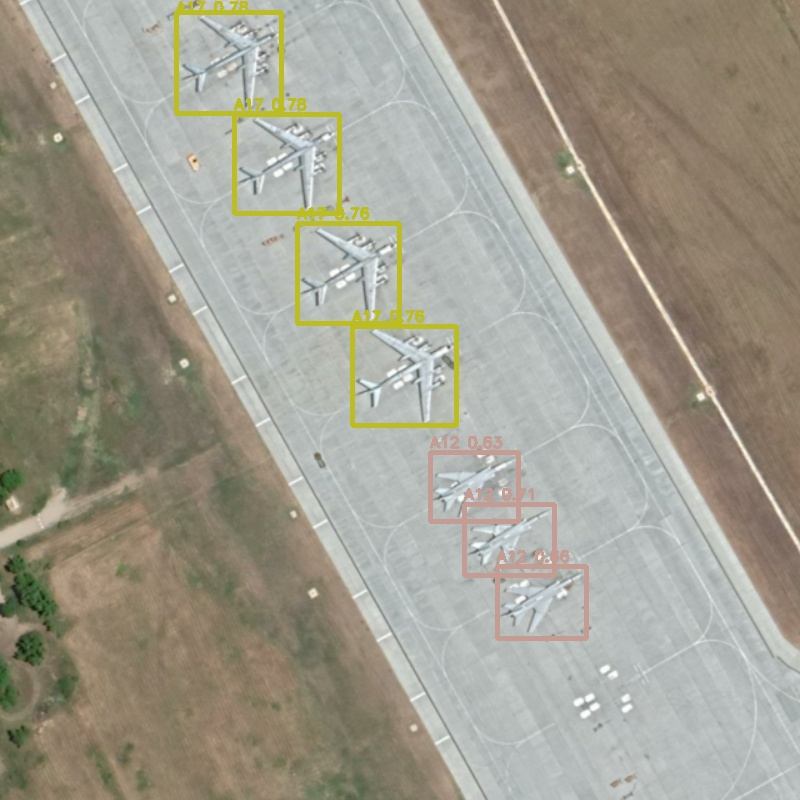A12: (497, 566, 586, 638), (464, 504, 554, 575), (430, 452, 518, 521)
A17: (176, 12, 281, 113), (234, 114, 339, 213), (352, 326, 456, 425), (297, 223, 399, 323)
